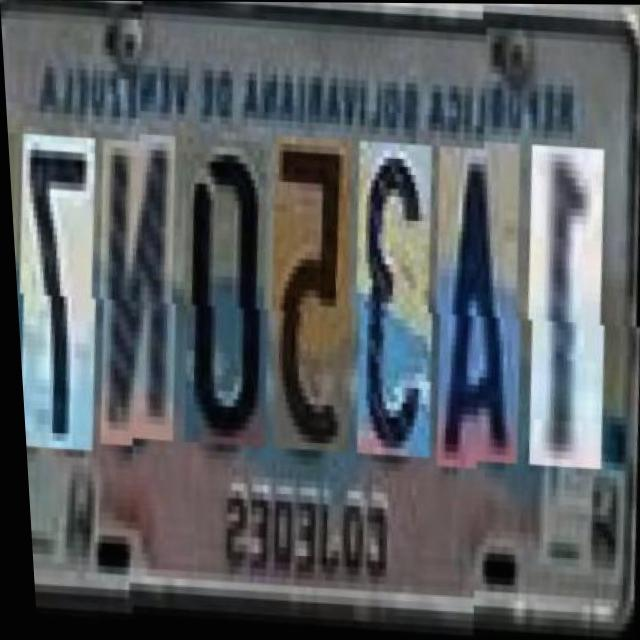0: (170, 142, 283, 452)
1: (512, 152, 619, 476)
3: (341, 144, 448, 460)
5: (257, 140, 367, 456)
7: (6, 134, 112, 450)
a: (421, 147, 536, 473)
n: (85, 137, 190, 447)
